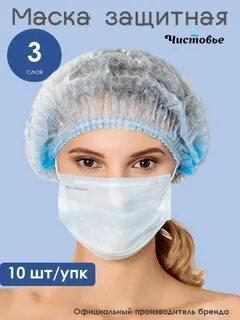hairnet: (16, 45, 233, 191)
mask: (40, 166, 183, 262)
